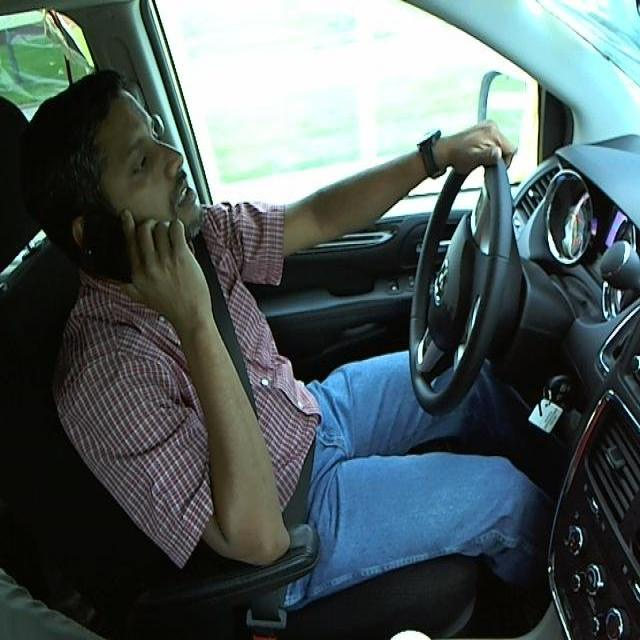using_phone: (9, 48, 250, 352)
